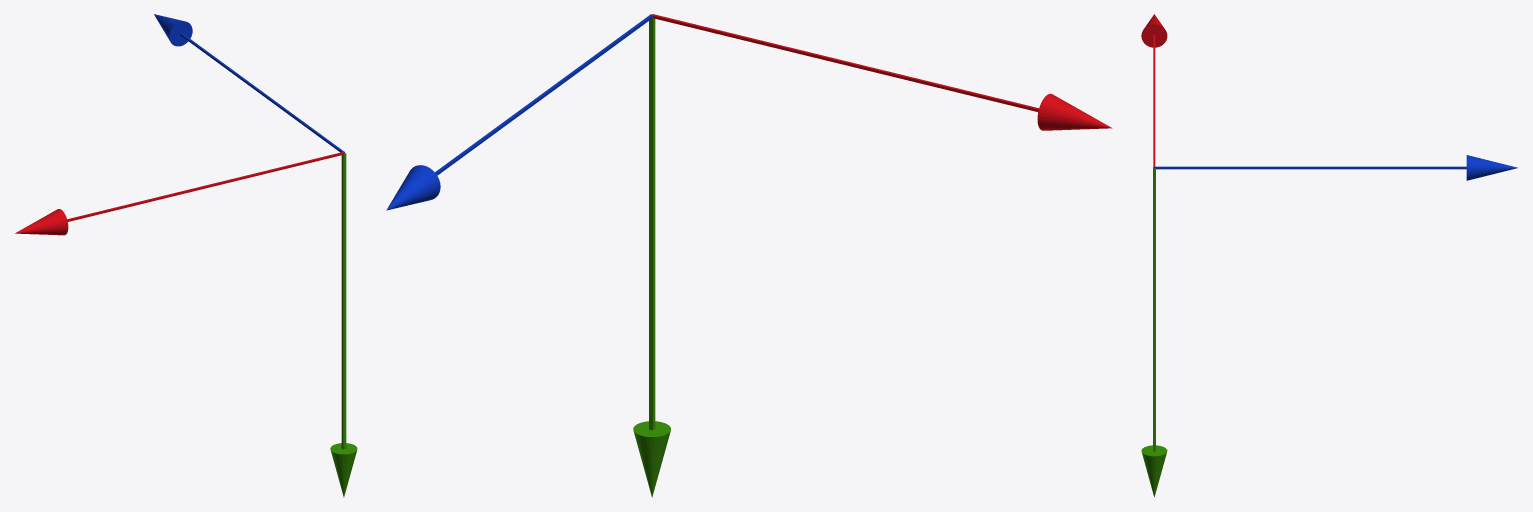
File: oxygizmo2.obj
3 renders of one model, left to right at view 1: azimuth 30°, elevation 25°; view 2: azimuth 150°, elevation 25°; view 3: azimuth 270°, elevation 25°, orthographic. The views are drawn at different scales.
Visible parts, largest first — view 1: Green_Cone.003, Red_Cone.001, Blue.001_Cone.011; view 2: Green_Cone.003, Red_Cone.001, Blue.001_Cone.011; view 3: Blue.001_Cone.011, Green_Cone.003, Red_Cone.001.
Boxes of the visible parts, <box> form: Green_Cone.003: <box>330,153,357,497</box>; Red_Cone.001: <box>15,152,344,235</box>; Blue.001_Cone.011: <box>154,14,344,152</box>; Green_Cone.003: <box>633,17,670,497</box>; Red_Cone.001: <box>652,14,1112,130</box>; Blue.001_Cone.011: <box>386,14,652,210</box>; Blue.001_Cone.011: <box>1154,155,1517,180</box>; Green_Cone.003: <box>1141,167,1167,497</box>; Red_Cone.001: <box>1141,14,1167,167</box>.
Bounding box in the file's own units: 2.9 × 2.9 × 2.9.
